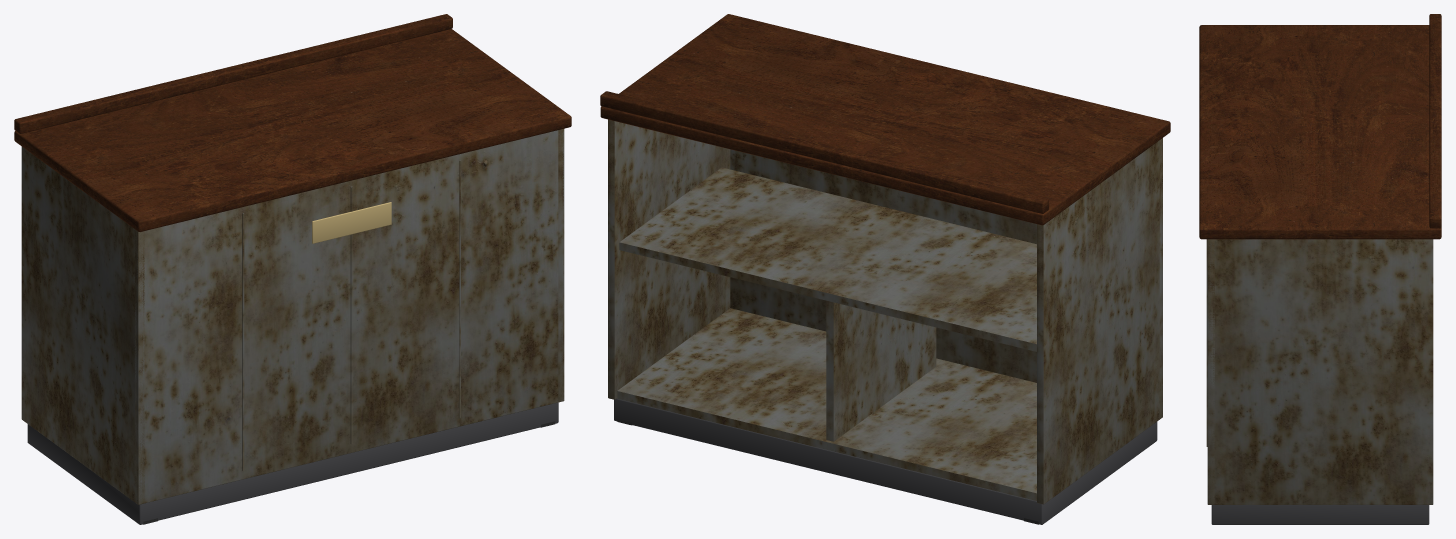
3 renders of one model, left to right at view 1: azimuth 30°, elevation 25°; view 2: azimuth 150°, elevation 25°; view 3: azimuth 270°, elevation 25°, orthographic. The views are drawn at different scales.
Parts seen in each view (by area): view 1: R02-03_TeacherPodium; view 2: R02-03_TeacherPodium; view 3: R02-03_TeacherPodium.
Part boxes in pixels (<box>): R02-03_TeacherPodium: <box>14,14,571,524</box>; R02-03_TeacherPodium: <box>600,14,1170,524</box>; R02-03_TeacherPodium: <box>1199,14,1441,524</box>.
Bounding box in the file's own units: 1.2 × 0.85 × 0.6.
5 materials, 2 textured.
